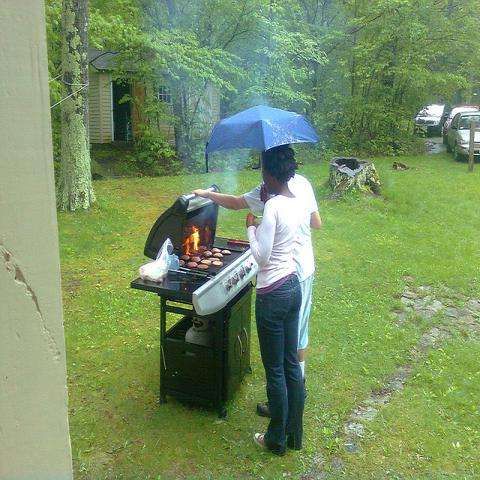car: (446, 110, 480, 161), (442, 103, 478, 145), (413, 104, 445, 127)
